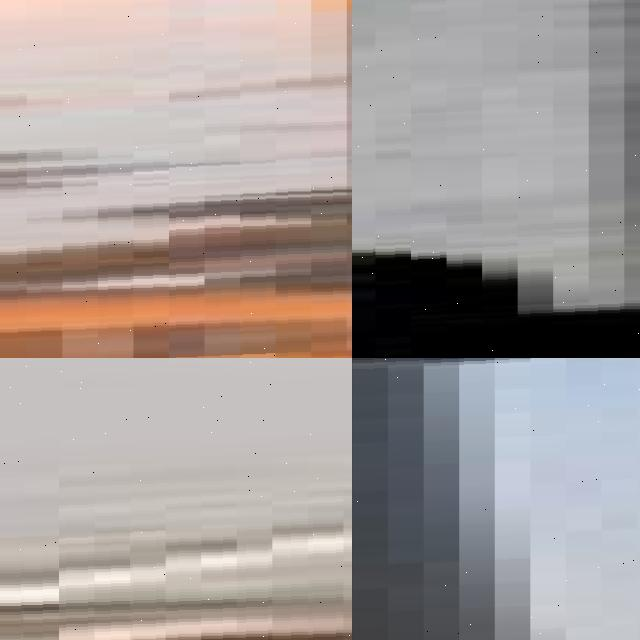street light: (0, 0, 352, 358), (352, 0, 640, 358), (0, 358, 352, 640), (352, 358, 640, 640)
